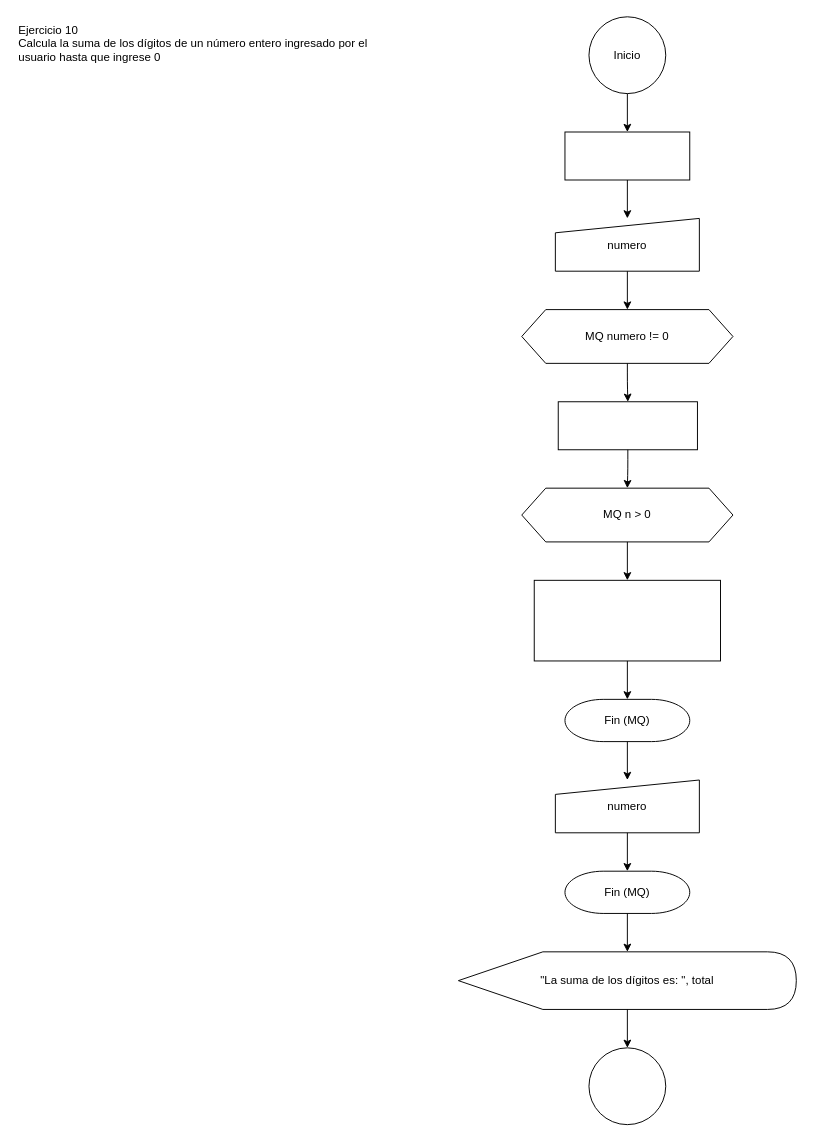
Some shapes in this 813 by 1141 pixel diagram are drawn without their labels. Each missing label, with the box of its shape:
digito ← n mod 10 total ← total + digito n ← trunc(n / 10): (533, 579, 720, 661)
Fin: (588, 1047, 666, 1125)
n ← abs(numero): (557, 401, 697, 450)
total ← 0: (564, 131, 690, 180)
